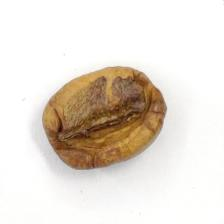NG: (60, 77, 144, 133)
